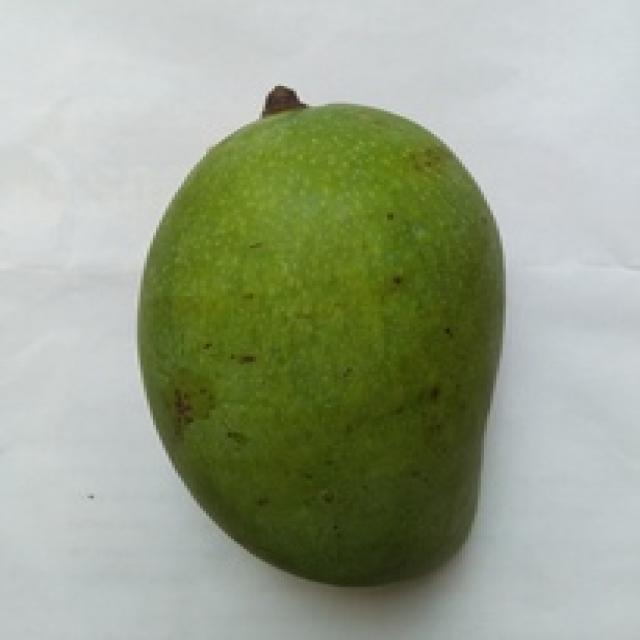Mango: (137, 106, 503, 582)
